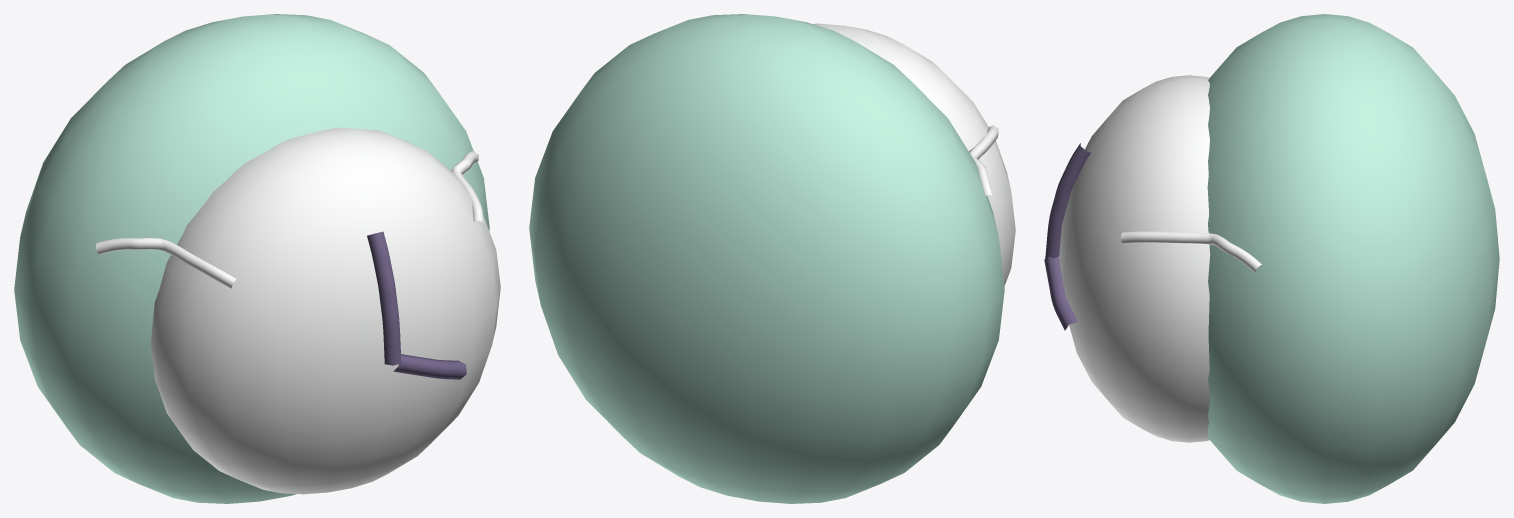
File: decor_4_mint.glb
3 views of the same model, side by side, from view 1: azimuth 30°, elevation 25°; view 2: azimuth 150°, elevation 25°; view 3: azimuth 270°, elevation 25° (orthographic). The views are drawn at different scales.
Visible parts, largest first — view 1: decor_4_mint; view 2: decor_4_mint; view 3: decor_4_mint.
Boxes of the visible parts, box(x1,y1,x2,y2) form: decor_4_mint: box(14, 14, 500, 503); decor_4_mint: box(529, 14, 1015, 503); decor_4_mint: box(1044, 14, 1499, 503).
Bounding box in the file's own units: 8 × 8 × 7.44.
